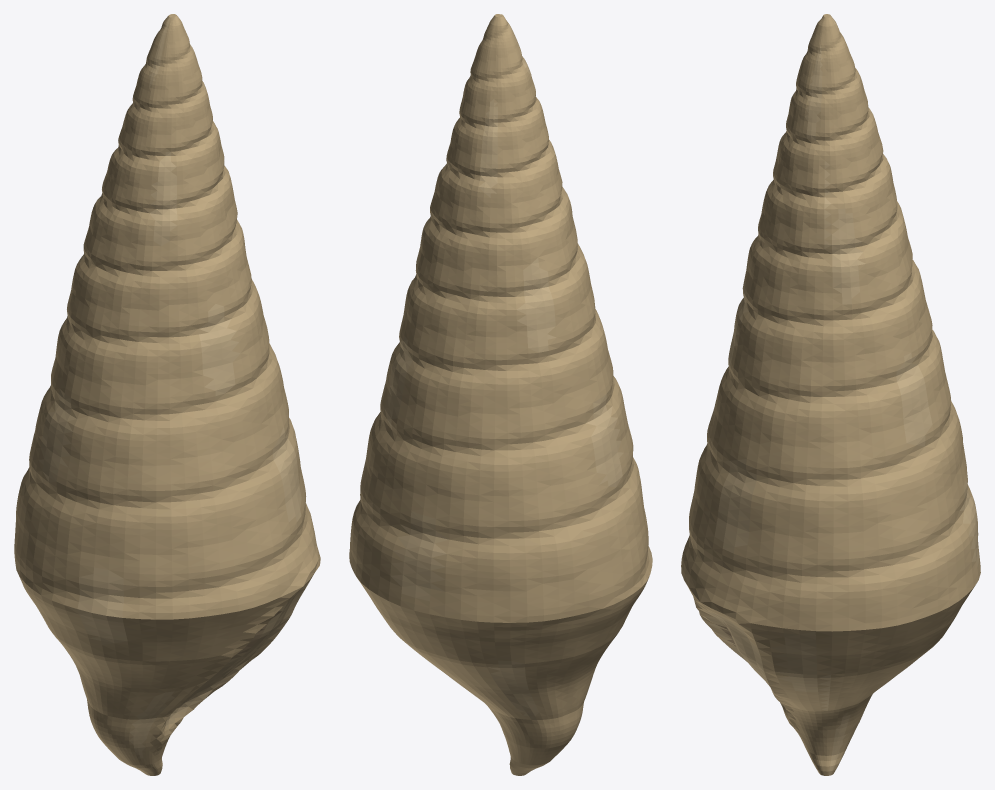
The picture shows the model from 3 angles, left to right: view 1: azimuth 30°, elevation 25°; view 2: azimuth 150°, elevation 25°; view 3: azimuth 270°, elevation 25°; orthographic projection.
Parts seen in each view (by area): view 1: continuous-dextral-shell-and-preserved-mouth; view 2: continuous-dextral-shell-and-preserved-mouth; view 3: continuous-dextral-shell-and-preserved-mouth.
Part boxes in pixels (bbox=[...]): continuous-dextral-shell-and-preserved-mouth: bbox=[14, 14, 320, 775]; continuous-dextral-shell-and-preserved-mouth: bbox=[349, 14, 652, 775]; continuous-dextral-shell-and-preserved-mouth: bbox=[681, 14, 980, 775].
Size of the model in its own units: 0.0217 by 0.059 by 0.0209.
